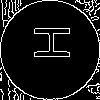H: (25, 25, 70, 61)
